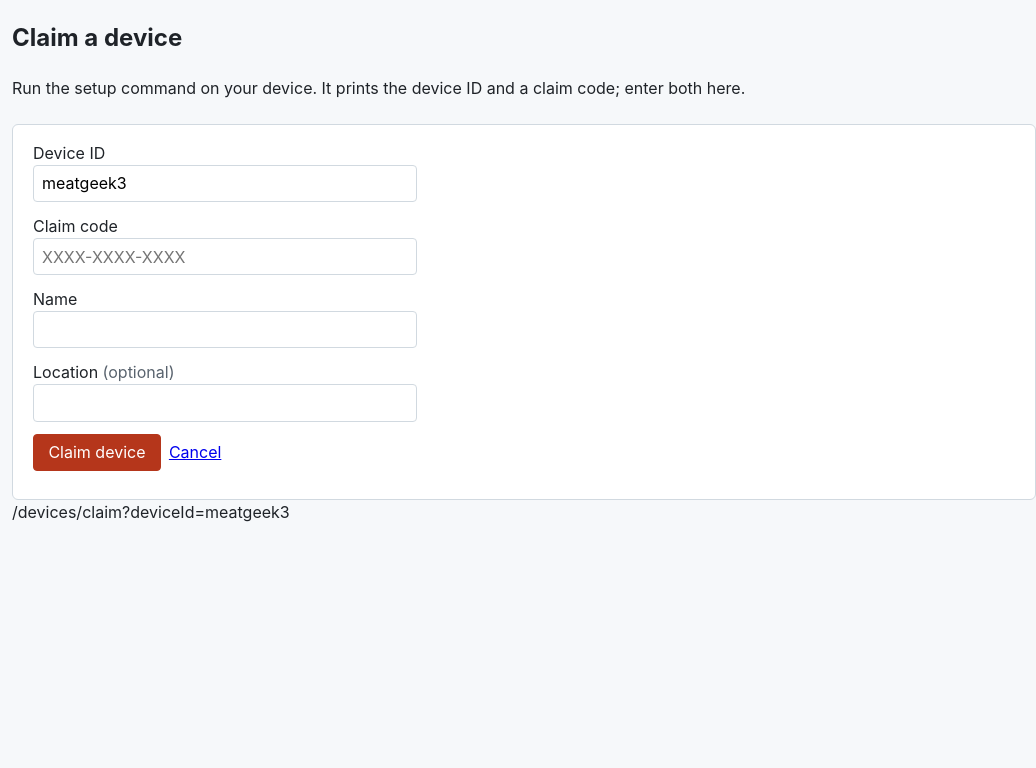
it: the claim page › never puts the code in the URL
Type "7K3M-9QXR-2HTV" into the field labelled "Claim code" at (225, 257), box [33,238,417,275]
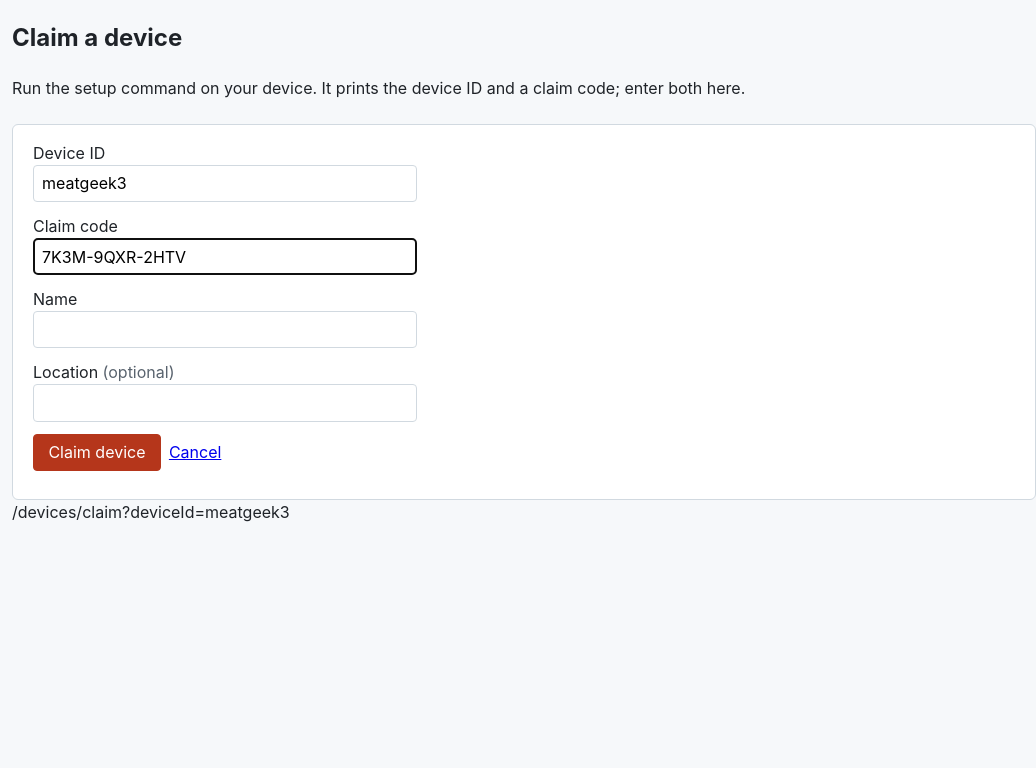
Type "Box" into the field labelled "Name" at (225, 330), box [33,311,417,348]
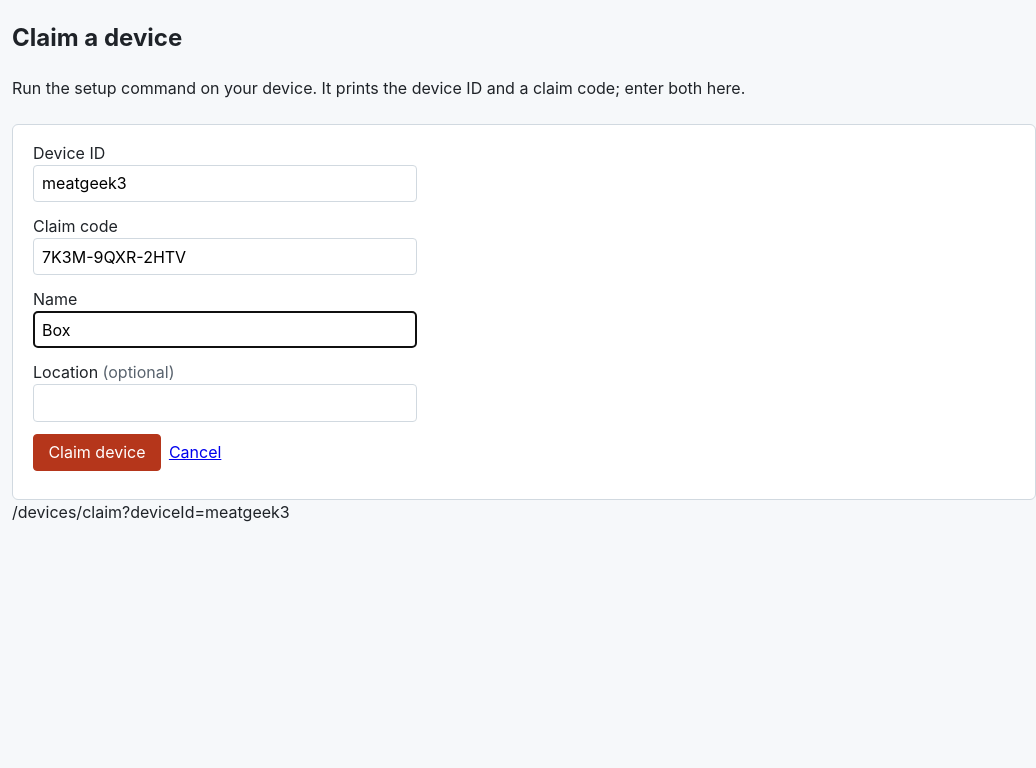
Click the button "Claim device" at (97, 452), box [33,434,161,471]
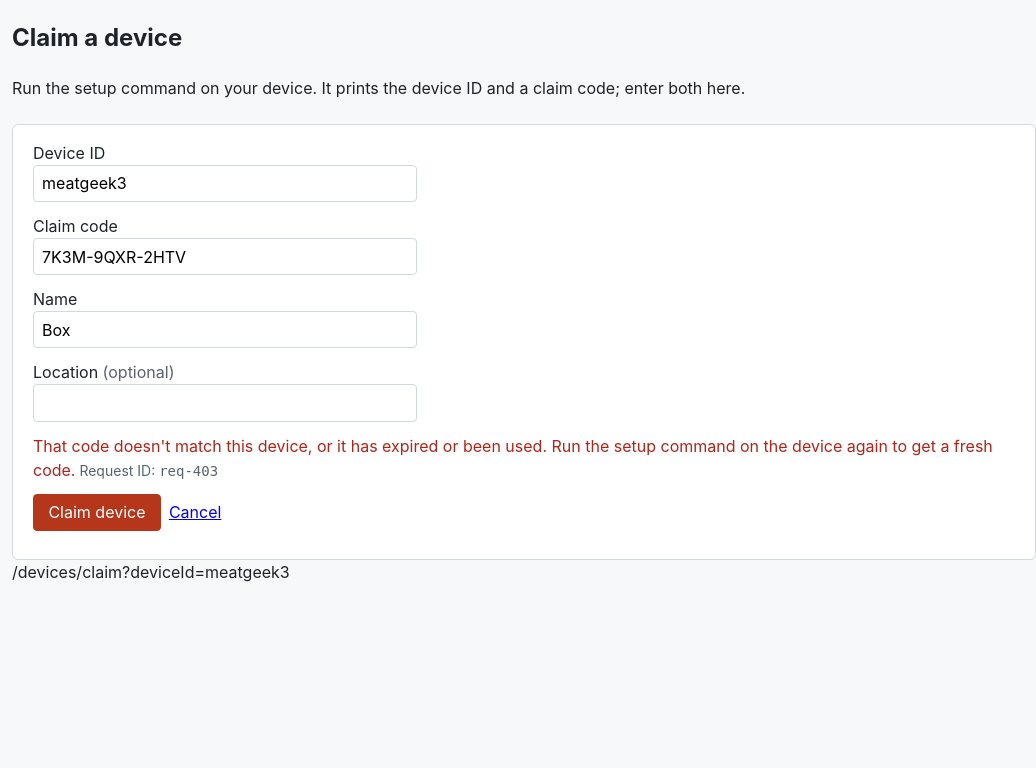
Expected: the element with test id "location" does not show "7K3M"
Now the message is shown, box [33,434,1015,482]
